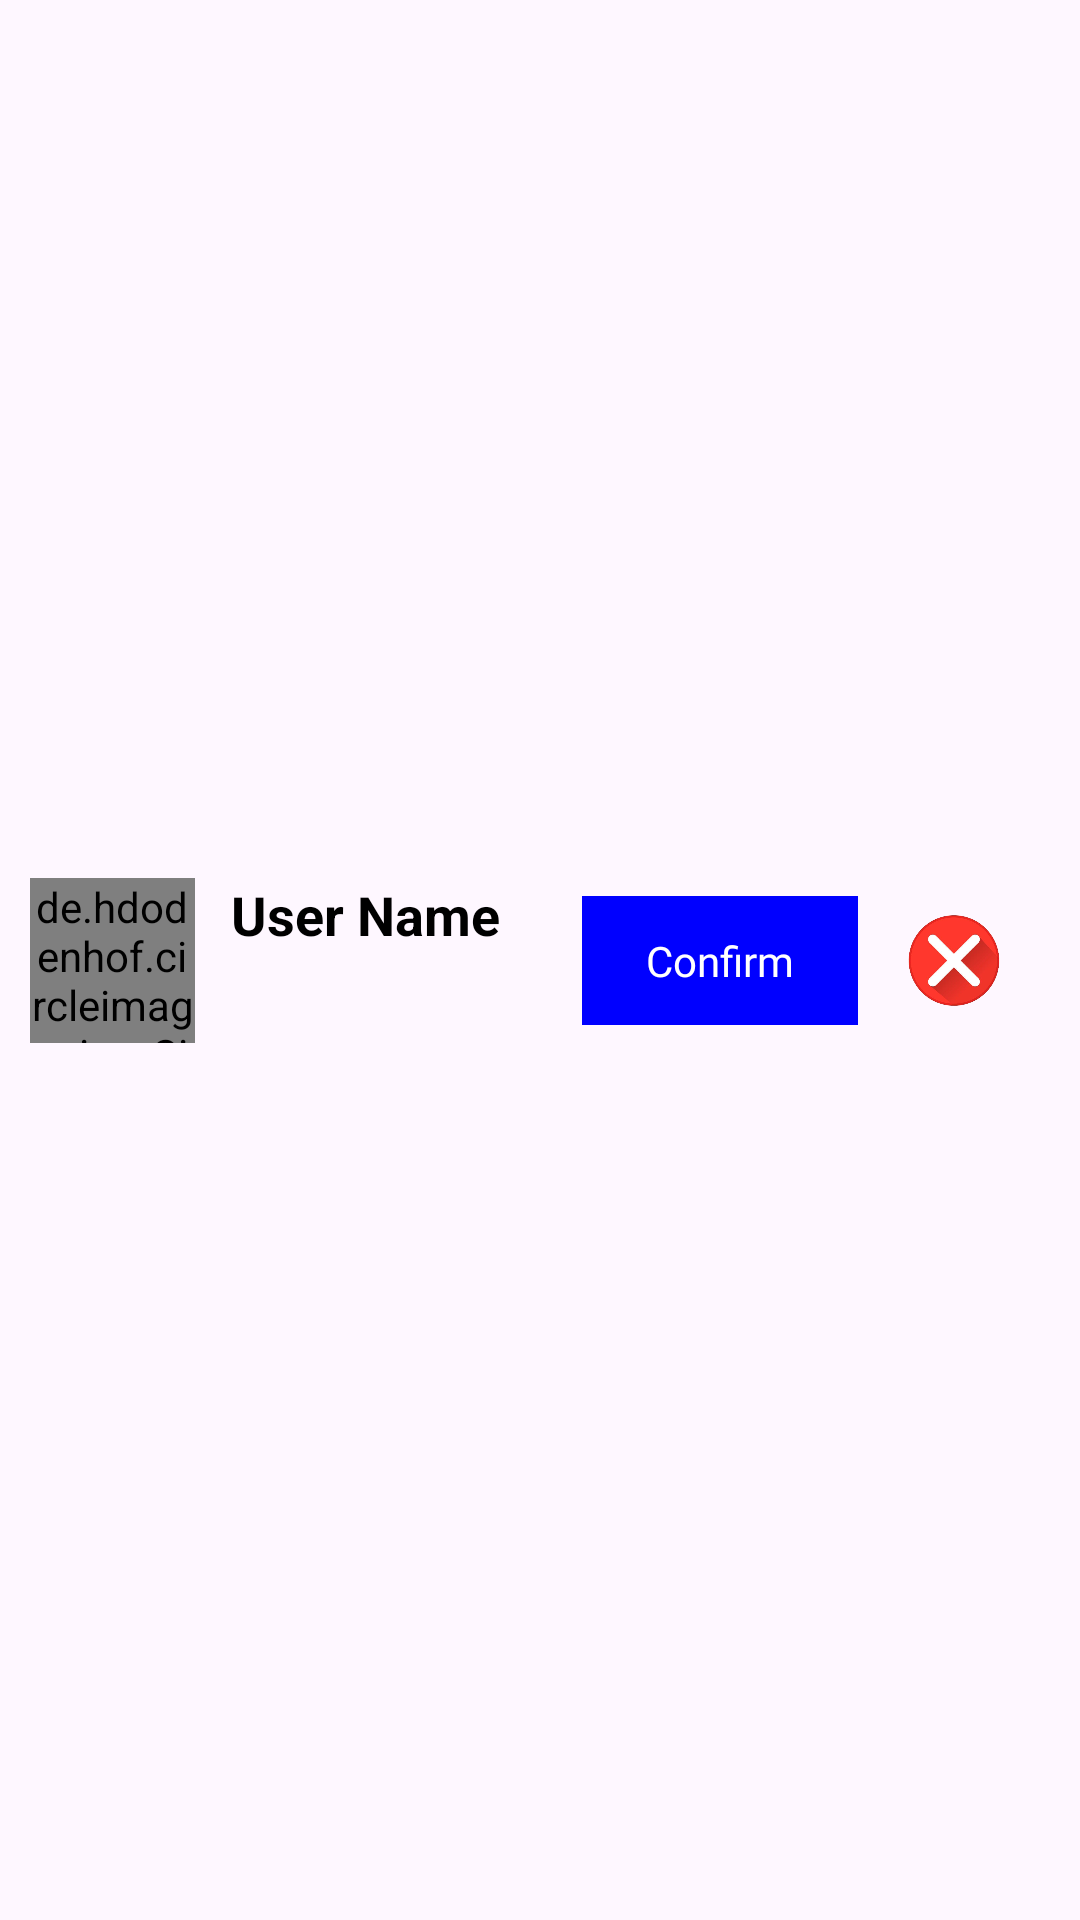

Screen size 1080 × 1920. Icon name, then its box in pixels as Rect(x1, y1, x2, y2):
reject: Rect(908, 915, 999, 1006)
